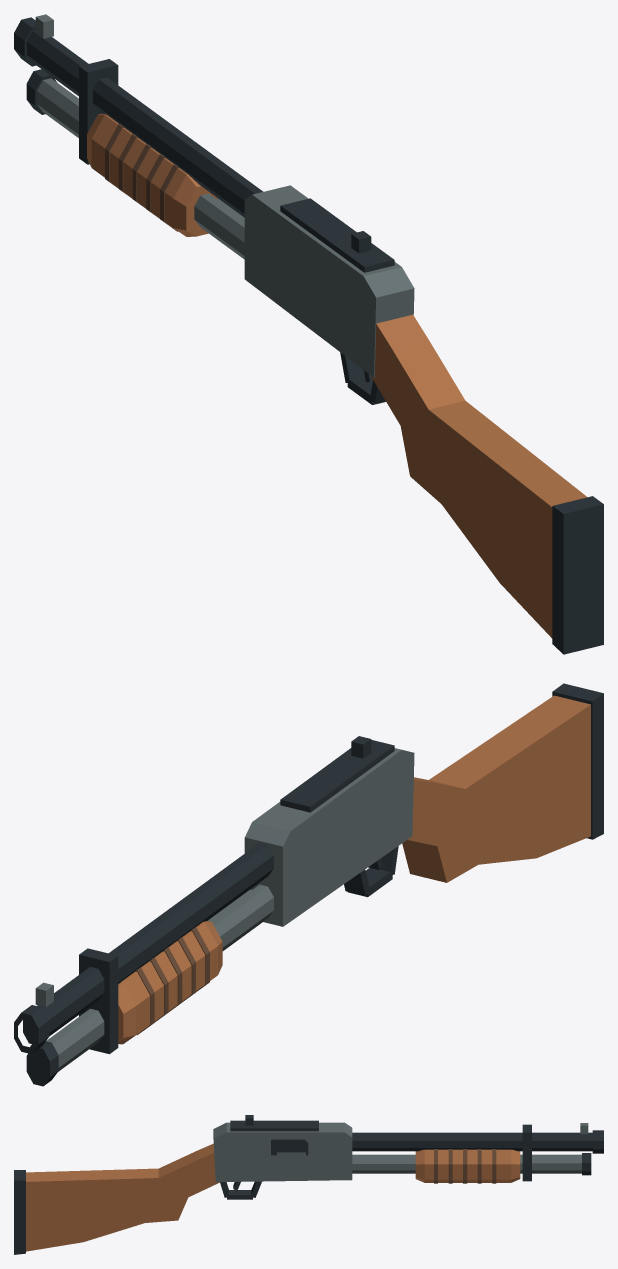
3 renders of one model, top to bottom at view 1: azimuth 30°, elevation 25°; view 2: azimuth 150°, elevation 25°; view 3: azimuth 270°, elevation 25°, orthographic. The views are drawn at different scales.
Visible parts, largest first — view 1: Stock_0, Receiver_3, Barrel_11, Stock_pad_1, Pump_16, Magazine_tube_12, Receiver_top_4, Barrel_clamp_24; view 2: Stock_0, Receiver_3, Barrel_11, Pump_16, Magazine_tube_12, Receiver_top_4, Stock_pad_1, Barrel_clamp_24, Magazine_cap_15, Barrel_muzzle_13; view 3: Stock_0, Receiver_3, Barrel_11, Pump_16, Magazine_tube_12, Receiver_top_4, Stock_pad_1, Barrel_clamp_24, Ejection_port_5, Action_bar_22, Barrel_muzzle_13, Trigger_guard_base_8 (+1 smaller).
Part boxes in pixels (x1,y1,x2,y2): Stock_0: (371,314,587,638); Receiver_3: (244,185,414,377); Barrel_11: (27,30,263,217); Stock_pad_1: (552,496,603,654); Pump_16: (87,113,217,236); Magazine_tube_12: (37,78,244,259); Receiver_top_4: (280,198,394,272); Barrel_clamp_24: (79,59,118,164); Stock_0: (402,695,590,882); Receiver_3: (244,748,414,926); Barrel_11: (23,842,273,1043); Pump_16: (118,921,222,1044); Magazine_tube_12: (46,884,273,1071); Receiver_top_4: (280,740,394,812); Stock_pad_1: (552,683,603,839); Barrel_clamp_24: (79,948,118,1054); Magazine_cap_15: (26,1041,58,1086); Barrel_muzzle_13: (14,1005,49,1053); Stock_0: (26,1143,220,1251); Receiver_3: (213,1122,352,1182); Barrel_11: (352,1132,592,1151); Pump_16: (415,1149,520,1182); Magazine_tube_12: (352,1154,581,1173); Receiver_top_4: (230,1120,318,1131); Stock_pad_1: (14,1170,25,1254); Barrel_clamp_24: (522,1124,531,1181); Ejection_port_5: (271,1139,308,1155); Action_bar_22: (352,1162,415,1168); Barrel_muzzle_13: (592,1130,603,1153); Trigger_guard_base_8: (227,1190,252,1199).
Size of the model in its own units: 0.062 by 0.3221 by 1.29.
